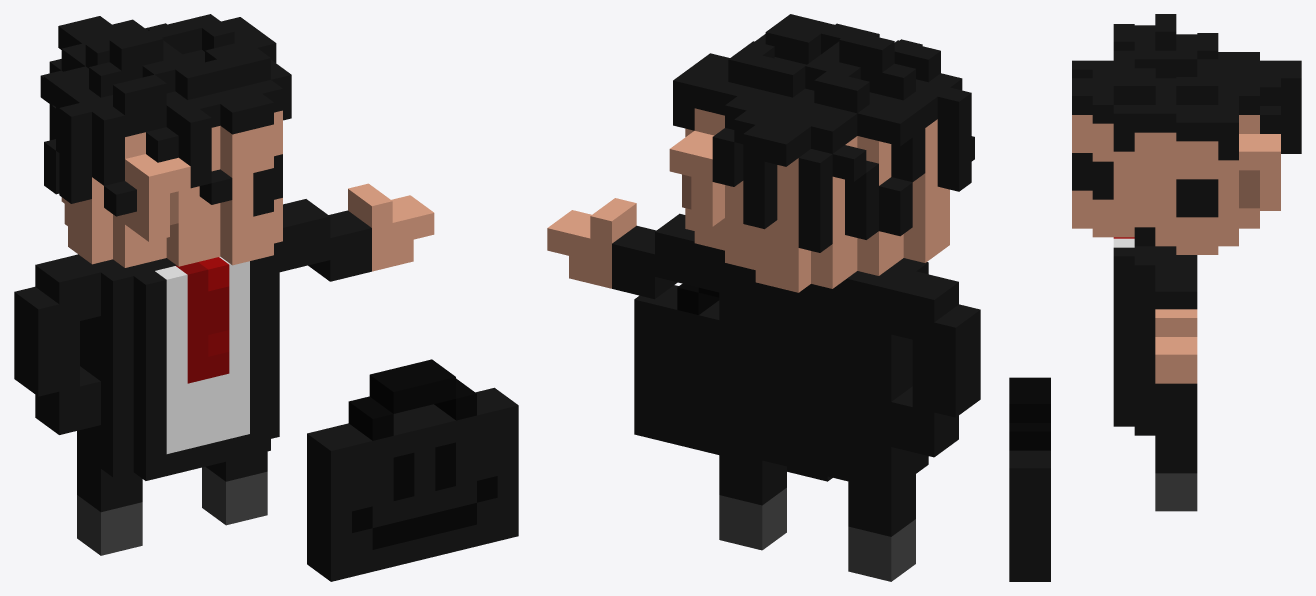
Rendered from 1 Spy.obj.
The picture shows the model from 3 angles, left to right: view 1: azimuth 30°, elevation 25°; view 2: azimuth 150°, elevation 25°; view 3: azimuth 270°, elevation 25°; orthographic projection. The views are drawn at different scales.
Size of the model in its own units: 1.9 by 2.3 by 1.4.
Materials: 1 (1 with a texture image).
